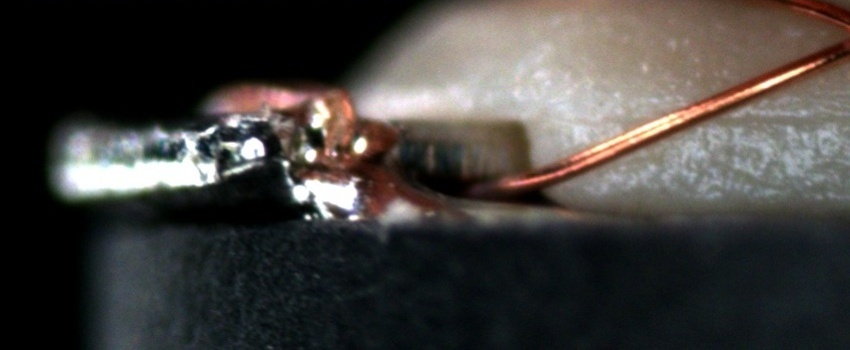CL: (832, 4, 850, 57)
DL: (571, 90, 849, 154)
TE: (199, 73, 400, 178)
